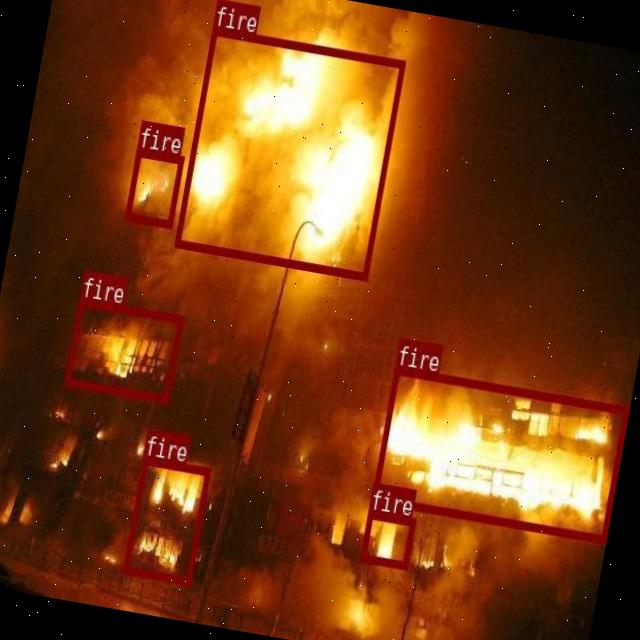fire: (173, 26, 404, 279), (371, 364, 628, 540), (63, 296, 183, 402), (121, 454, 210, 583), (124, 147, 182, 225), (359, 510, 414, 568)
